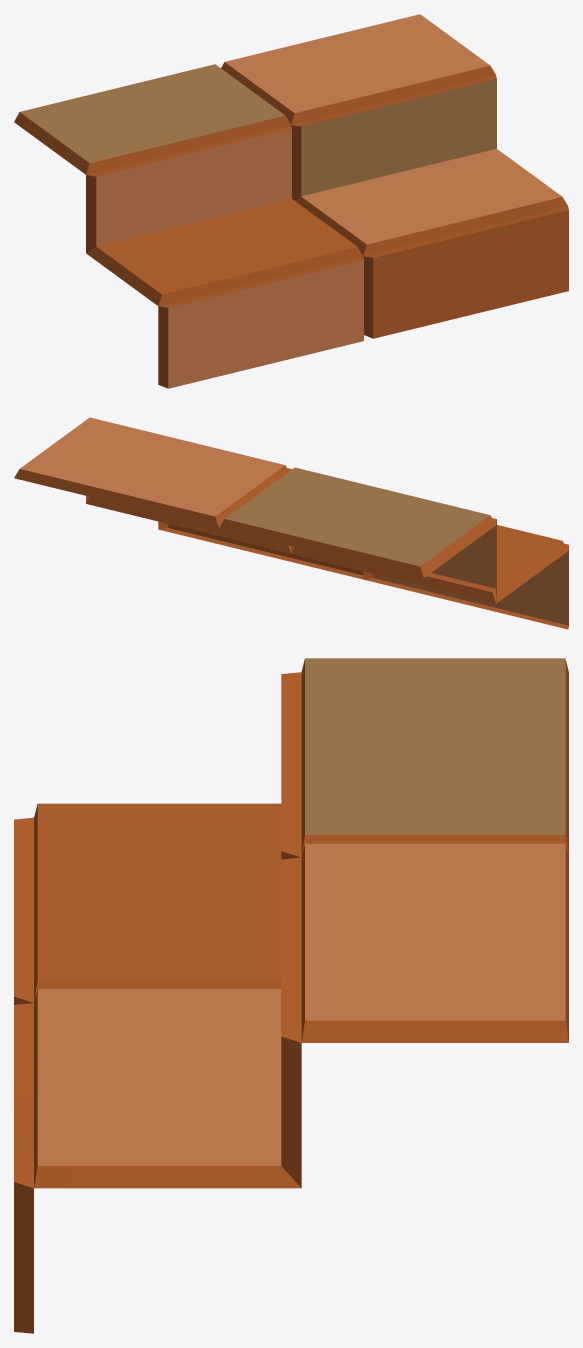
Rendered from Stairs.fbx.
3 renders of one model, top to bottom at view 1: azimuth 30°, elevation 25°; view 2: azimuth 150°, elevation 25°; view 3: azimuth 270°, elevation 25°, orthographic. The views are drawn at different scales.
Visible parts, largest first — view 1: Stair Asset; view 2: Stair Asset; view 3: Stair Asset.
Part boxes in pixels (x1,y1,x2,y2): Stair Asset: (14,14,568,388); Stair Asset: (14,417,568,629); Stair Asset: (14,658,568,1333).
Size of the model in its own units: 164 by 64.23 by 104.
